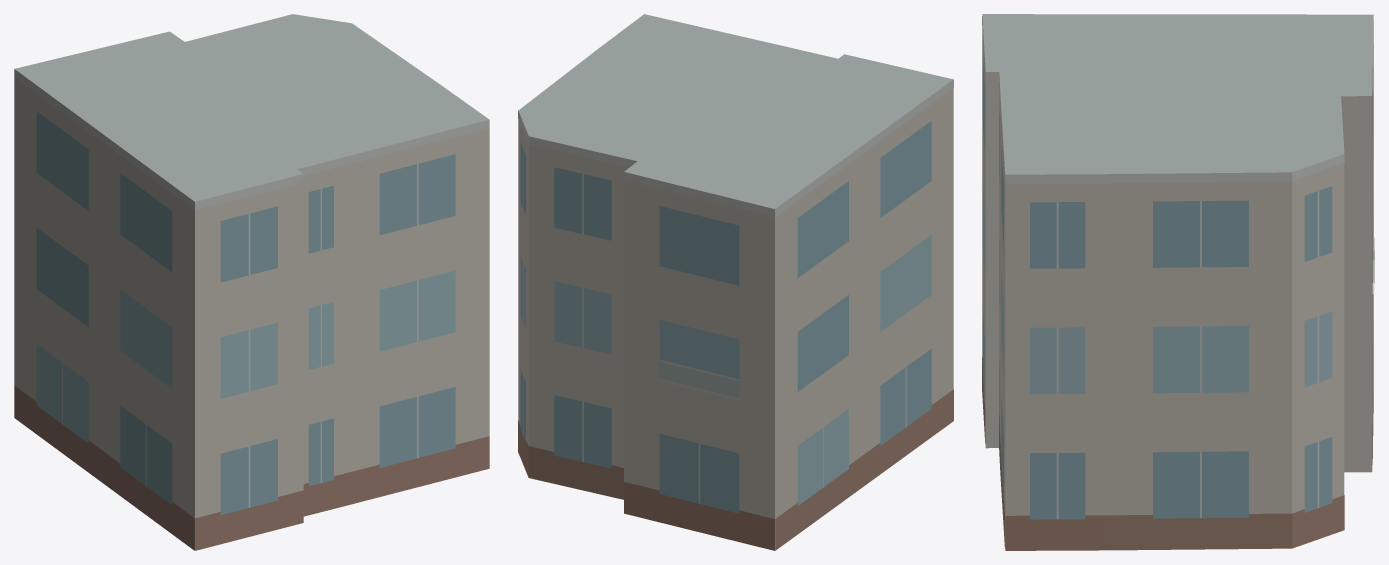
Rendered from survey-upis-32794311.glb.
3 views of the same model, side by side, from view 1: azimuth 30°, elevation 25°; view 2: azimuth 150°, elevation 25°; view 3: azimuth 270°, elevation 25° (orthographic). The views are drawn at different scales.
Parts seen in each view (by area): view 1: survey-upis-32794311.tmp; view 2: survey-upis-32794311.tmp; view 3: survey-upis-32794311.tmp.
Boxes of the visible parts, x1,y1,x2,y2 form: survey-upis-32794311.tmp: (14,14,489,550); survey-upis-32794311.tmp: (518,14,953,550); survey-upis-32794311.tmp: (982,14,1374,550).
Bounding box in the file's own units: 9.26 × 10.1 × 9.56.
